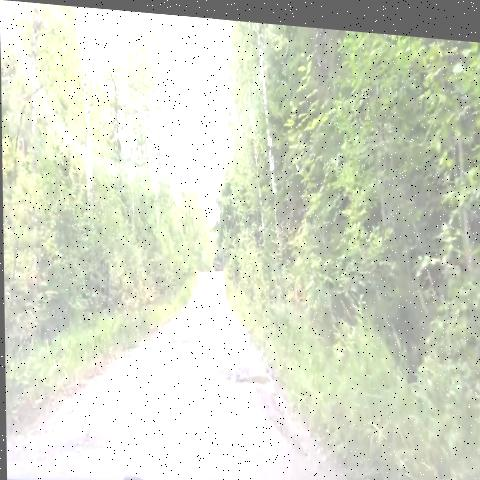pothole: (46, 399, 129, 480), (255, 384, 316, 464), (222, 346, 274, 394), (161, 322, 204, 357)
